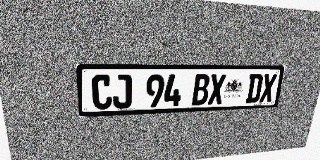4: (164, 74, 182, 107)
9: (146, 74, 165, 107)
B: (192, 74, 210, 105)
C: (91, 75, 112, 110)
D: (245, 74, 264, 103)
J: (112, 74, 132, 109)
X: (208, 74, 226, 105), (259, 74, 277, 102)
